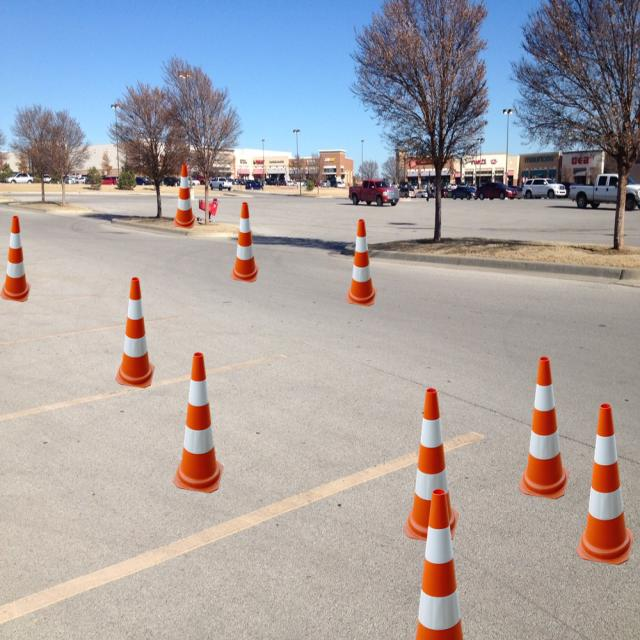cone: (405, 487, 476, 638), (576, 404, 634, 566), (405, 391, 461, 547), (518, 357, 570, 499), (173, 352, 223, 493), (116, 277, 156, 388), (346, 220, 377, 306), (0, 216, 31, 302), (230, 202, 260, 282), (173, 164, 196, 229)
